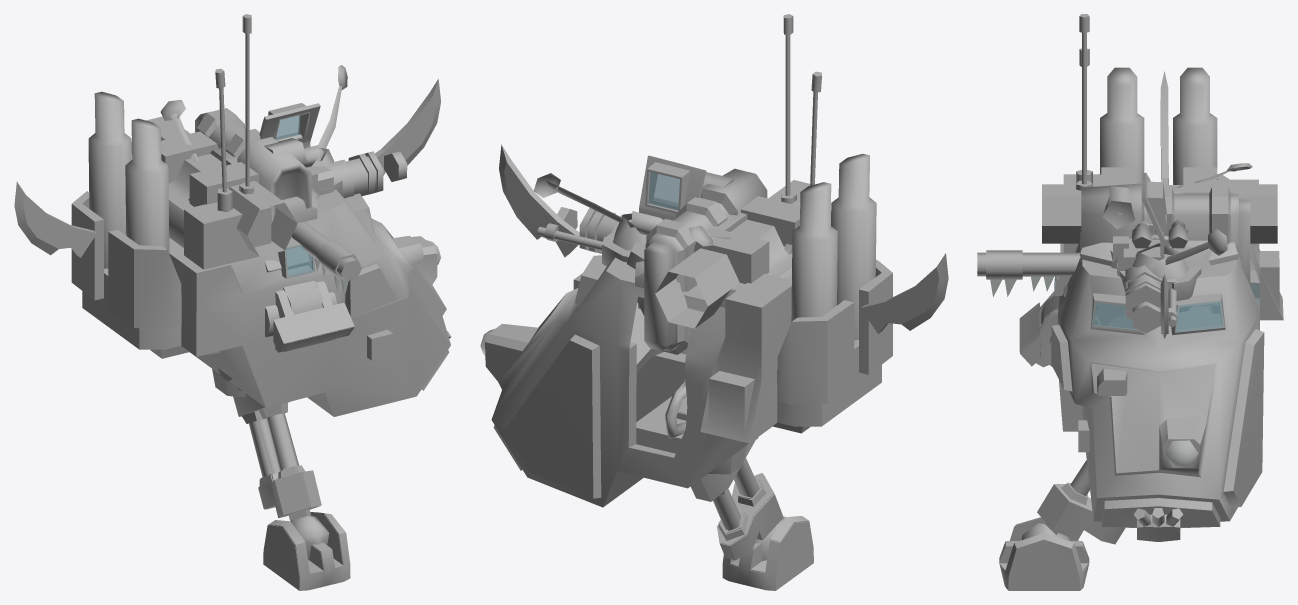
Rendered from bp_sentinel_ac_rl-0pf9jl8.glb.
The picture shows the model from 3 angles, left to right: view 1: azimuth 30°, elevation 25°; view 2: azimuth 150°, elevation 25°; view 3: azimuth 270°, elevation 25°; orthographic projection. The views are drawn at different scales.
Visible parts, largest first — view 1: turret, turret_interior, body, gun1, legr3, legl2, legl3, gun_rot, object011, legl4, legr4, gun (+5 smaller); view 2: turret, turret_interior, body, gun1, legr3, legr4, door, object011, object012, legl3, gun_rot, detail4 (+1 smaller); view 3: turret, turret_interior, body, gun1, legl4, gun_rot, legl3, gun, door, detail4, legr2, legl2 (+4 smaller).
Part boxes in pixels (left/top/right/bottom): turret: left=71, top=14, right=451, bottom=416; turret_interior: left=71, top=91, right=449, bottom=416; body: left=131, top=116, right=342, bottom=256; gun1: left=195, top=108, right=311, bottom=266; legr3: left=238, top=402, right=320, bottom=560; legl2: left=218, top=281, right=353, bottom=390; legl3: left=233, top=393, right=329, bottom=544; gun_rot: left=306, top=151, right=407, bottom=198; object011: left=14, top=182, right=96, bottom=257; legl4: left=268, top=512, right=350, bottom=590; legr4: left=263, top=512, right=349, bottom=590; gun: left=292, top=222, right=361, bottom=296; turret: left=480, top=14, right=892, bottom=507; turret_interior: left=485, top=154, right=892, bottom=506; body: left=602, top=180, right=831, bottom=328; gun1: left=644, top=168, right=767, bottom=354; legr3: left=665, top=396, right=783, bottom=560; legr4: left=722, top=521, right=813, bottom=590; door: left=638, top=155, right=706, bottom=308; object011: left=860, top=253, right=948, bottom=333; object012: left=499, top=144, right=579, bottom=257; legl3: left=665, top=385, right=784, bottom=545; gun_rot: left=537, top=207, right=631, bottom=253; detail4: left=533, top=173, right=731, bottom=246; turret: left=1051, top=14, right=1283, bottom=541; turret_interior: left=1051, top=68, right=1283, bottom=527; body: left=1042, top=167, right=1277, bottom=311; gun1: left=1081, top=183, right=1250, bottom=315; legl4: left=999, top=517, right=1088, bottom=590; gun_rot: left=1097, top=236, right=1180, bottom=333; legl3: left=1021, top=460, right=1124, bottom=541; gun: left=977, top=250, right=1080, bottom=297; door: left=1141, top=172, right=1166, bottom=258; detail4: left=1161, top=163, right=1252, bottom=264; legr2: left=1020, top=304, right=1109, bottom=367; legl2: left=1019, top=291, right=1111, bottom=352.
Bounding box in the file's own units: 58.43 × 70.9 × 36.15.
